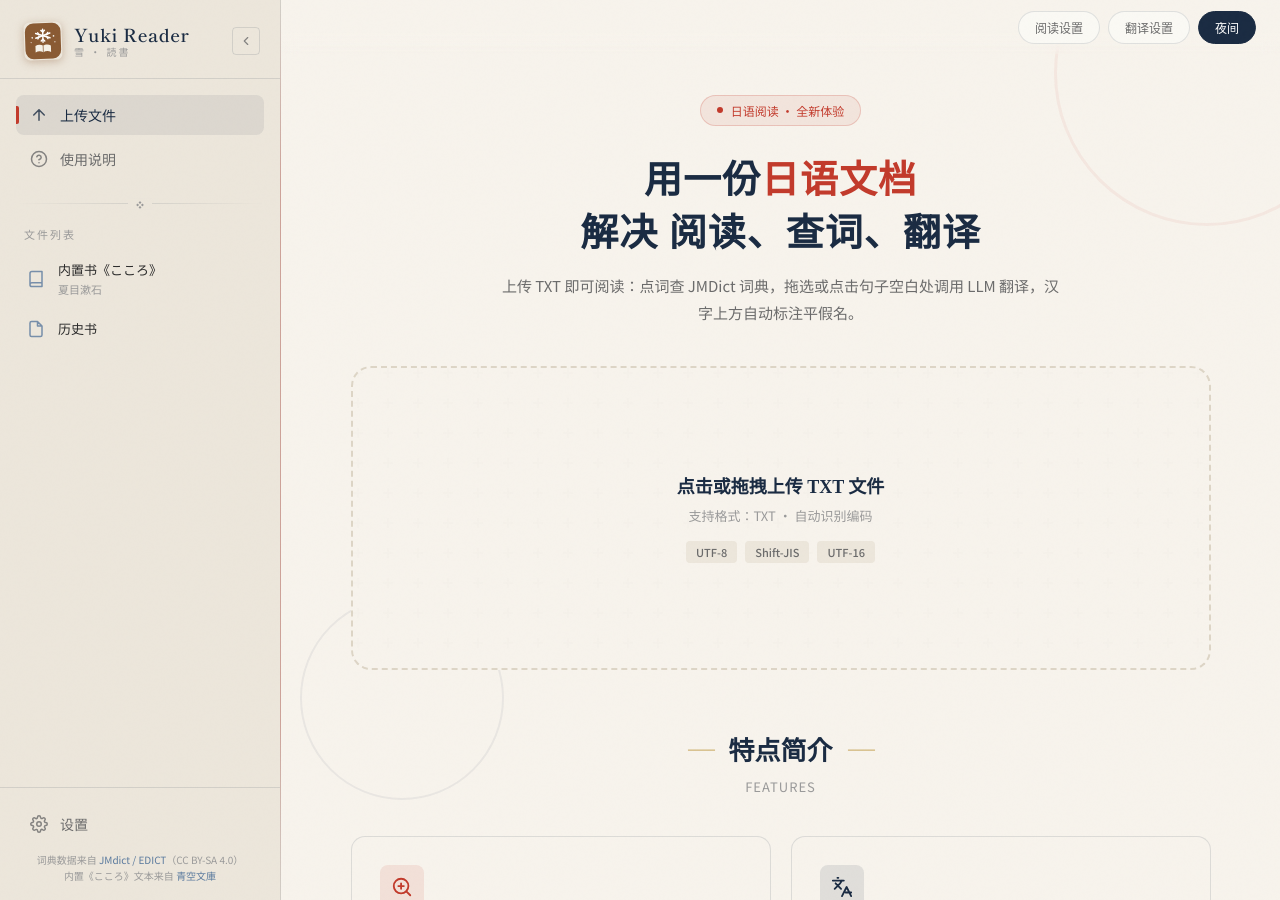
Scenario: 侧栏翻译历史 › loads persisted history on mount
The image size is (1280, 900).
Click the button "历史书". click: (125, 328)
box: [12,309,238,348]
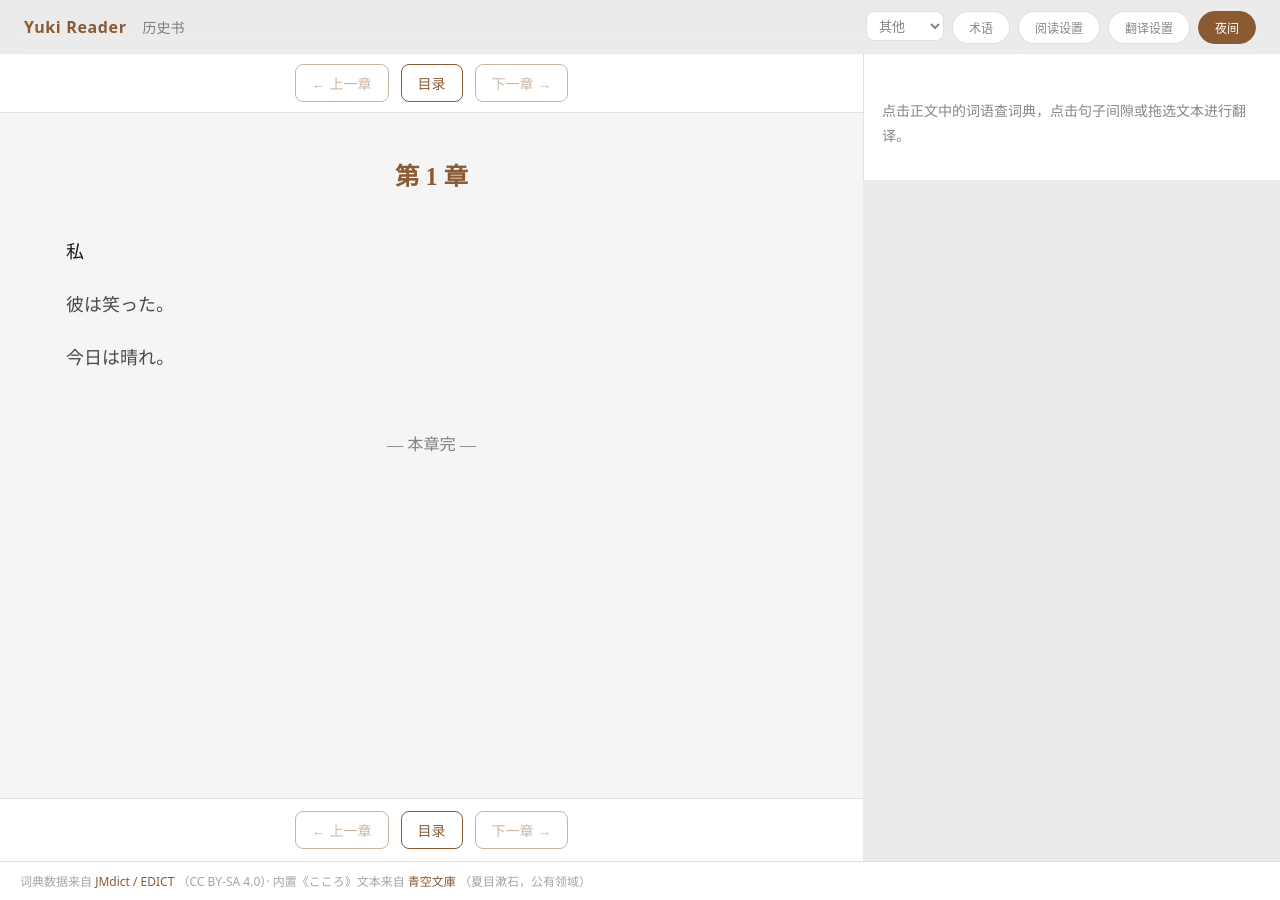
历史按钮只在有卡片时渲染：先产生一次翻译，再确认挂载时恢复的记录仍在列表里
Click the element with test id "sentence" showing "私". click: (75, 252)
box: [66,242,84,262]
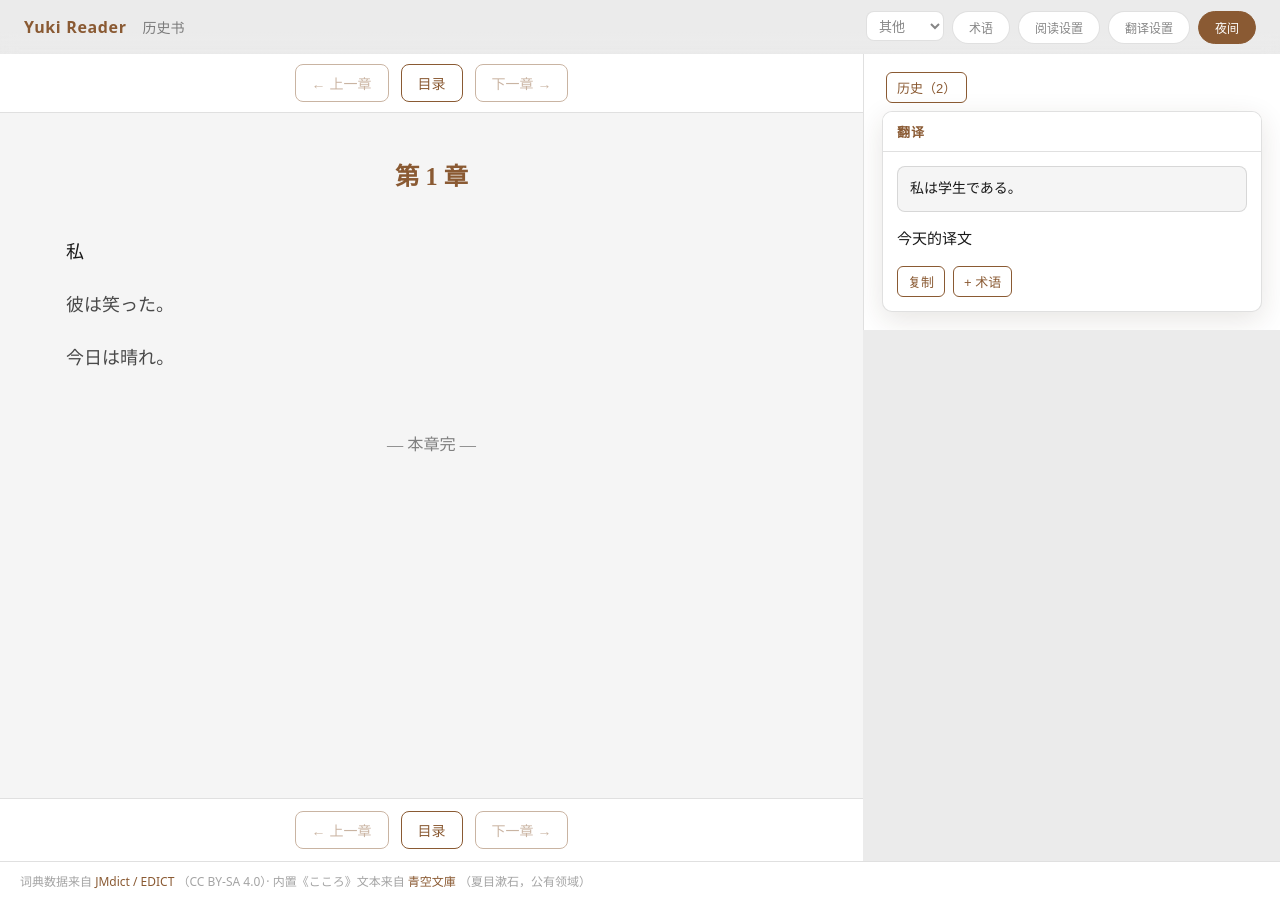
Expected: the text "今天的译文" is shown, [897,228,972,248]
Click the button "历史（2）". click: (927, 88)
box: [886,72,967,103]
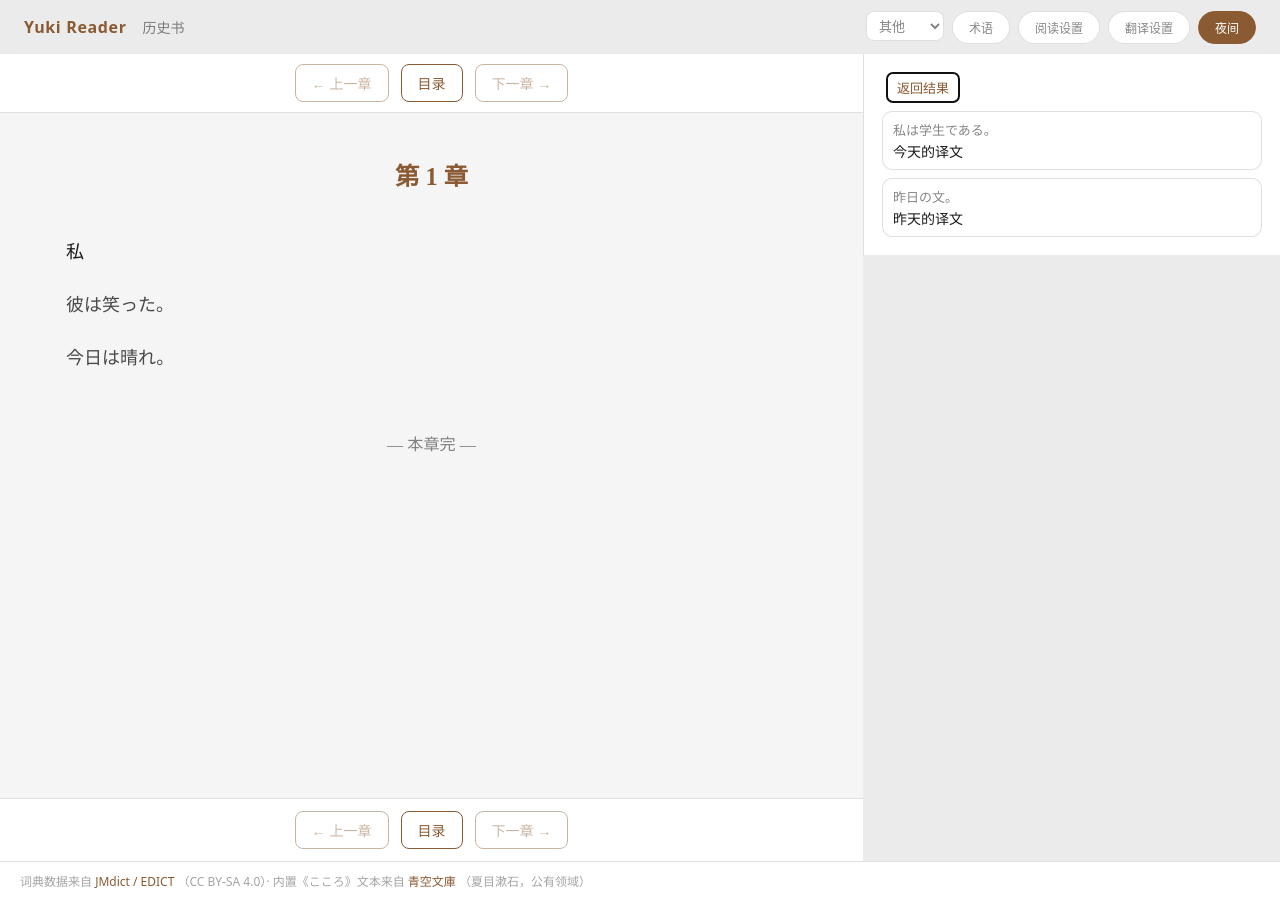
Expected: the text "私は学生である。" is shown, [893,120,997,139]
Expected: the text "昨日の文。" is shown, [893,187,958,206]
